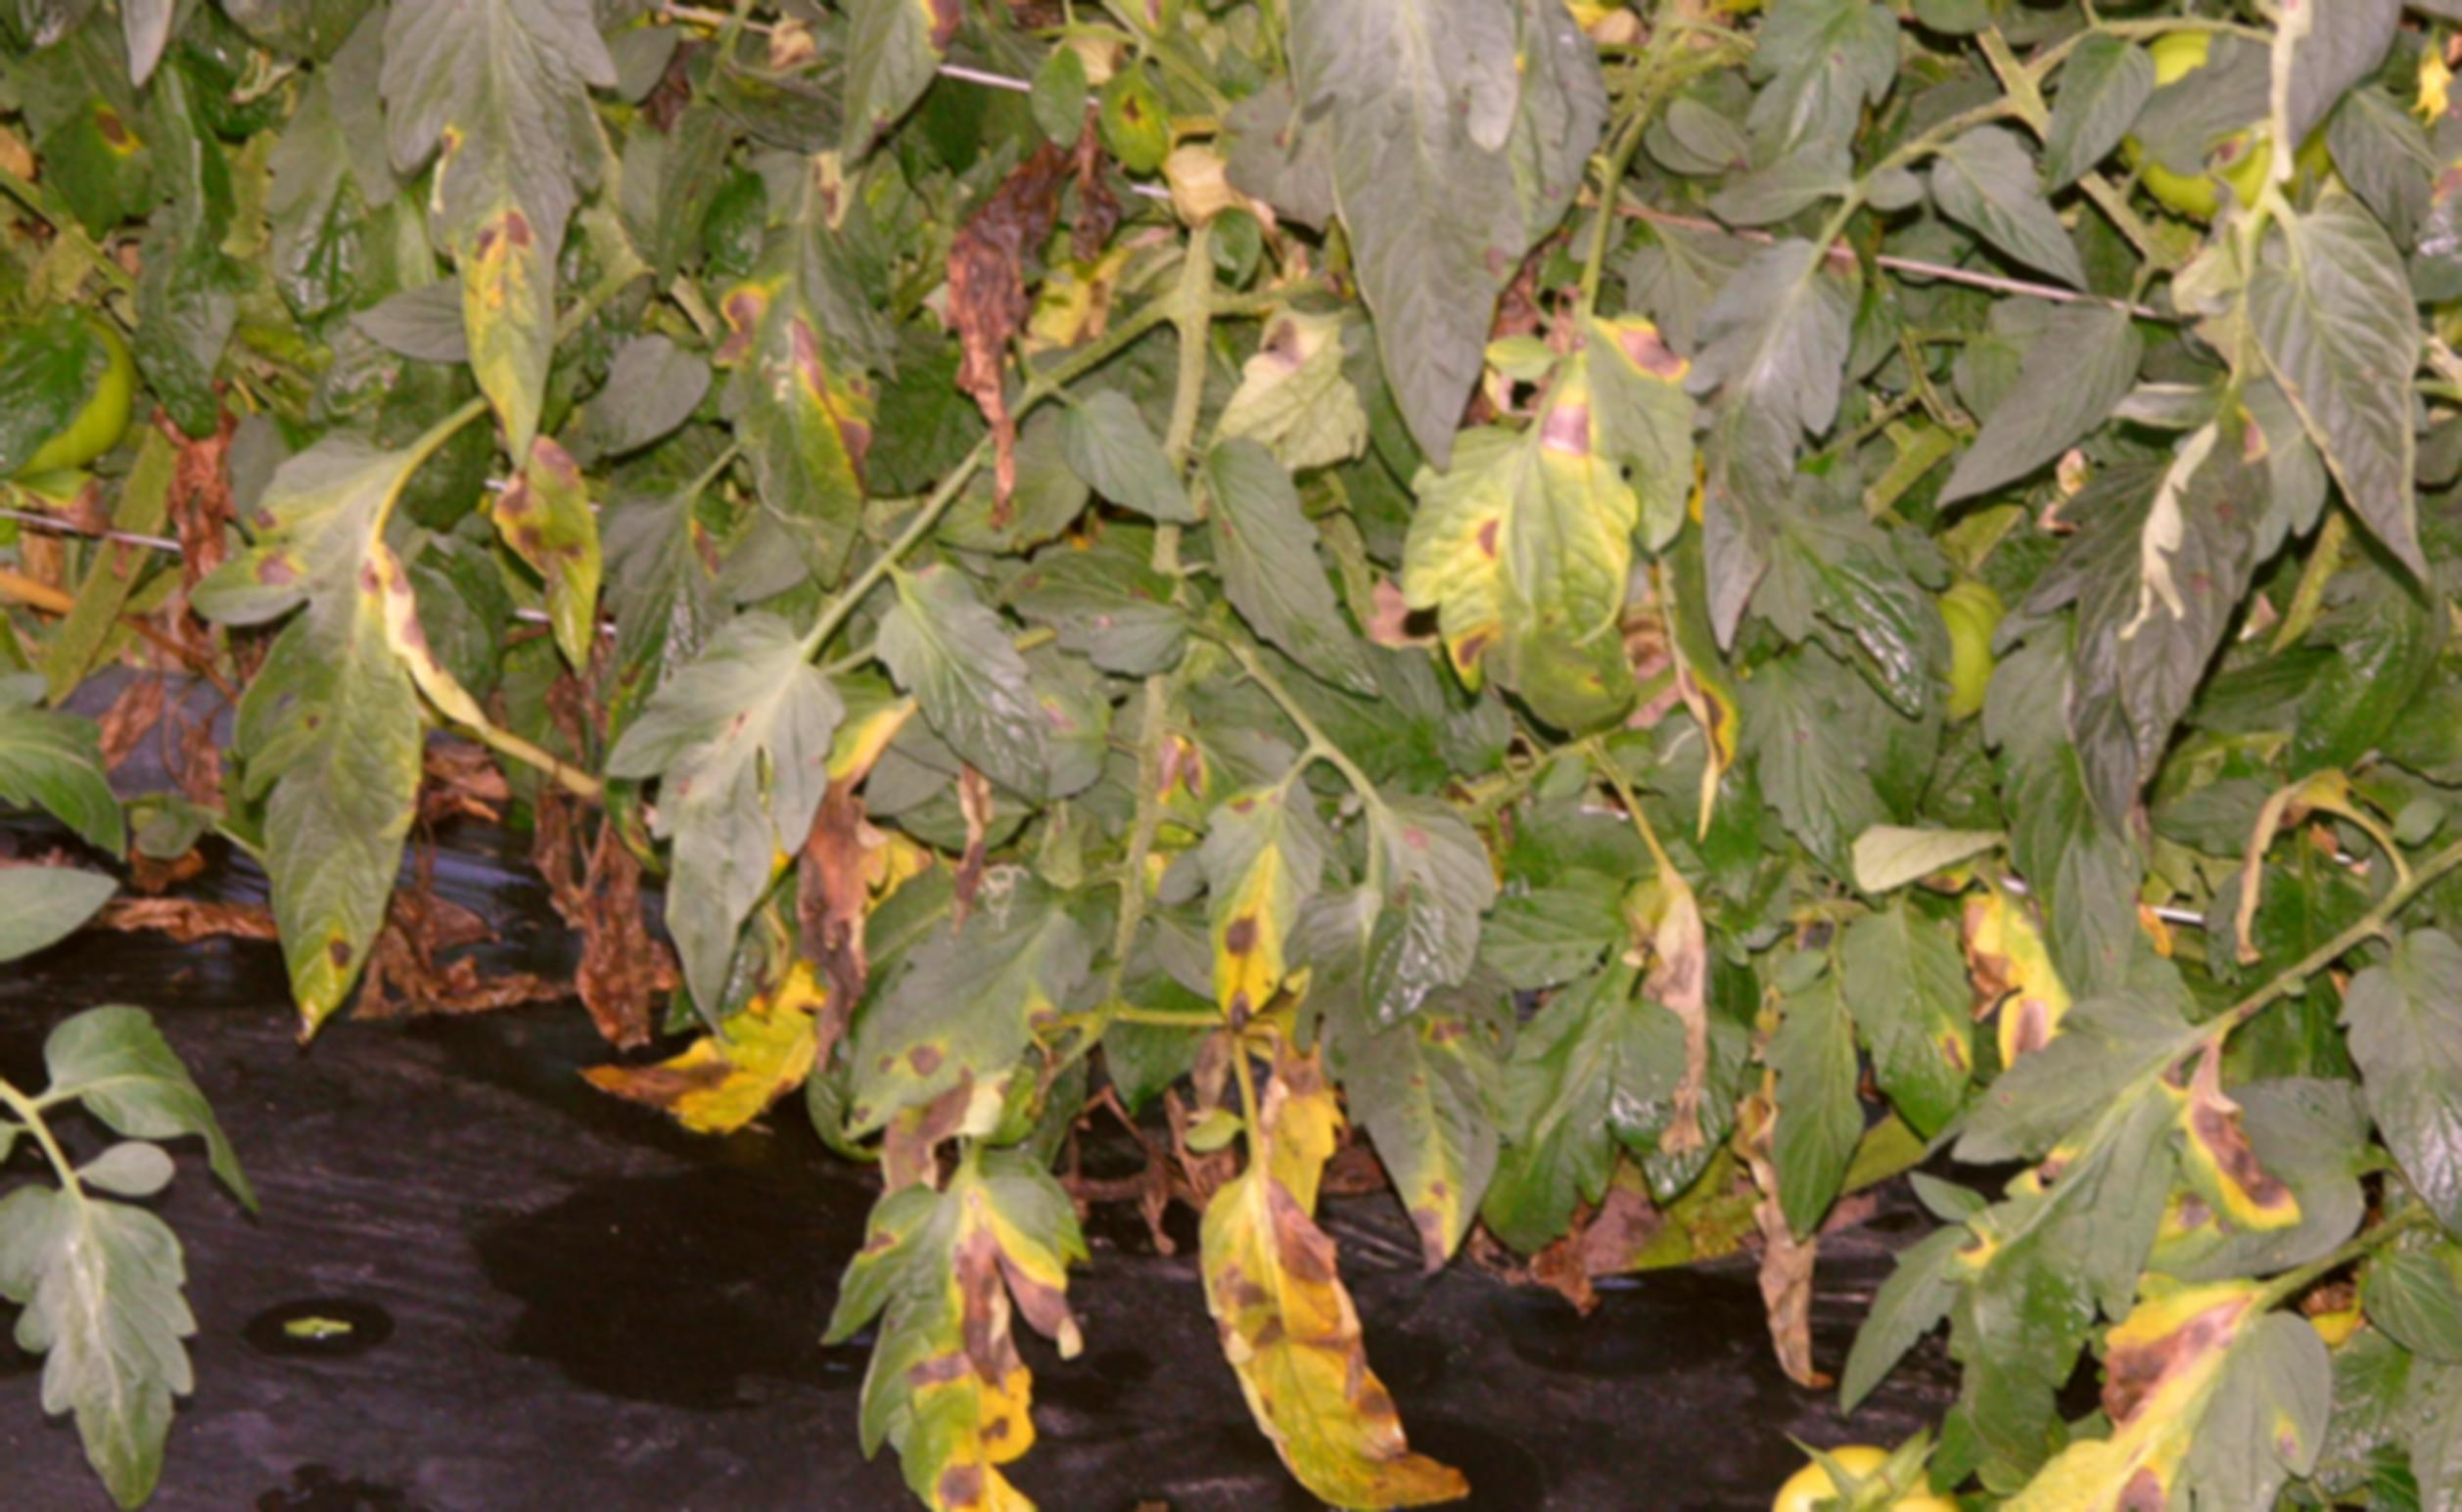Tomato Early blight leaf: (202, 378, 447, 1048), (368, 0, 654, 459), (1164, 1116, 1472, 1512), (2007, 1247, 2344, 1512), (856, 1155, 1096, 1512), (725, 162, 911, 589), (1398, 440, 1655, 712), (1817, 891, 1998, 1181), (1006, 0, 1238, 158), (1208, 751, 1331, 1032), (475, 431, 619, 654)
Tomato leaf: (0, 1171, 223, 1507), (2260, 195, 2425, 568), (1180, 443, 1386, 709), (1695, 246, 1817, 672), (870, 556, 1060, 818), (2339, 932, 2462, 1254), (1940, 308, 2119, 505), (1920, 141, 2107, 301)
